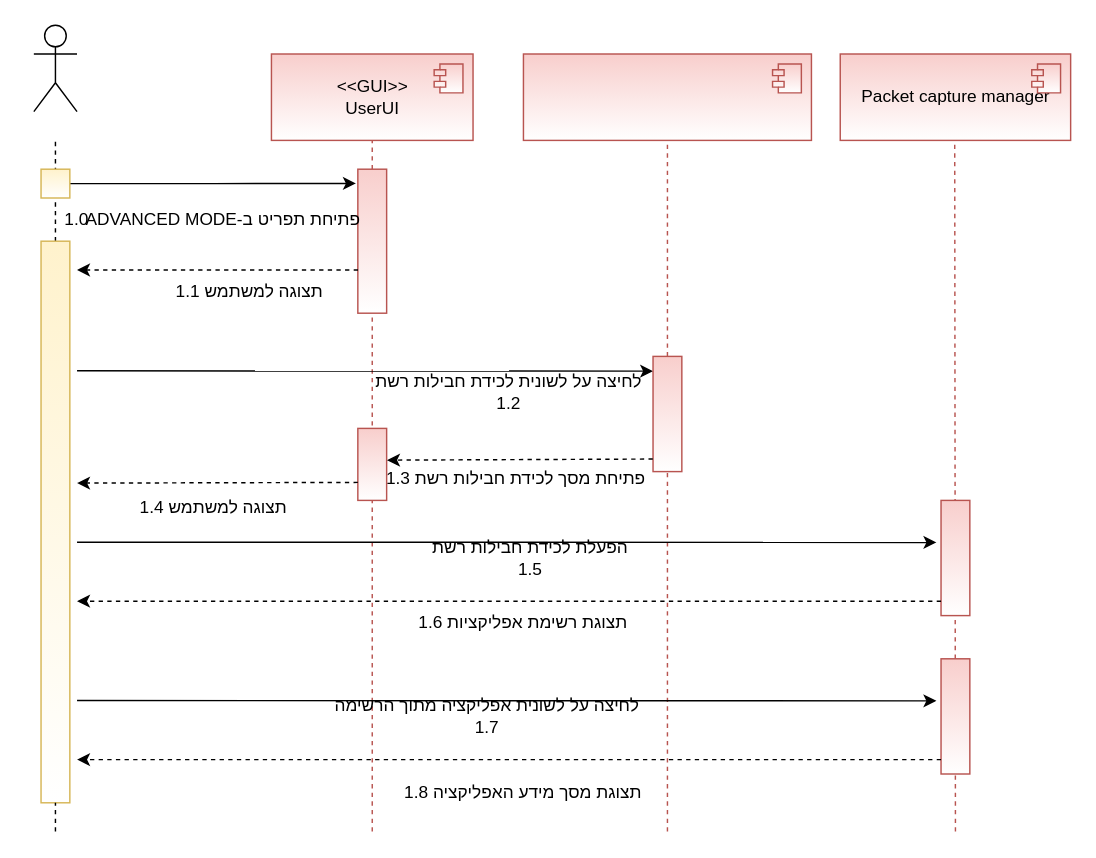
The diagram is 1096 pixels wide and 858 high, and some of its shapes have lost their labels. The centre of each missing label's shape, as x and y in pixels:
"ADVANCED MODE option manager" belongs at [666,96].
"משתמש" belongs at [54,68].
